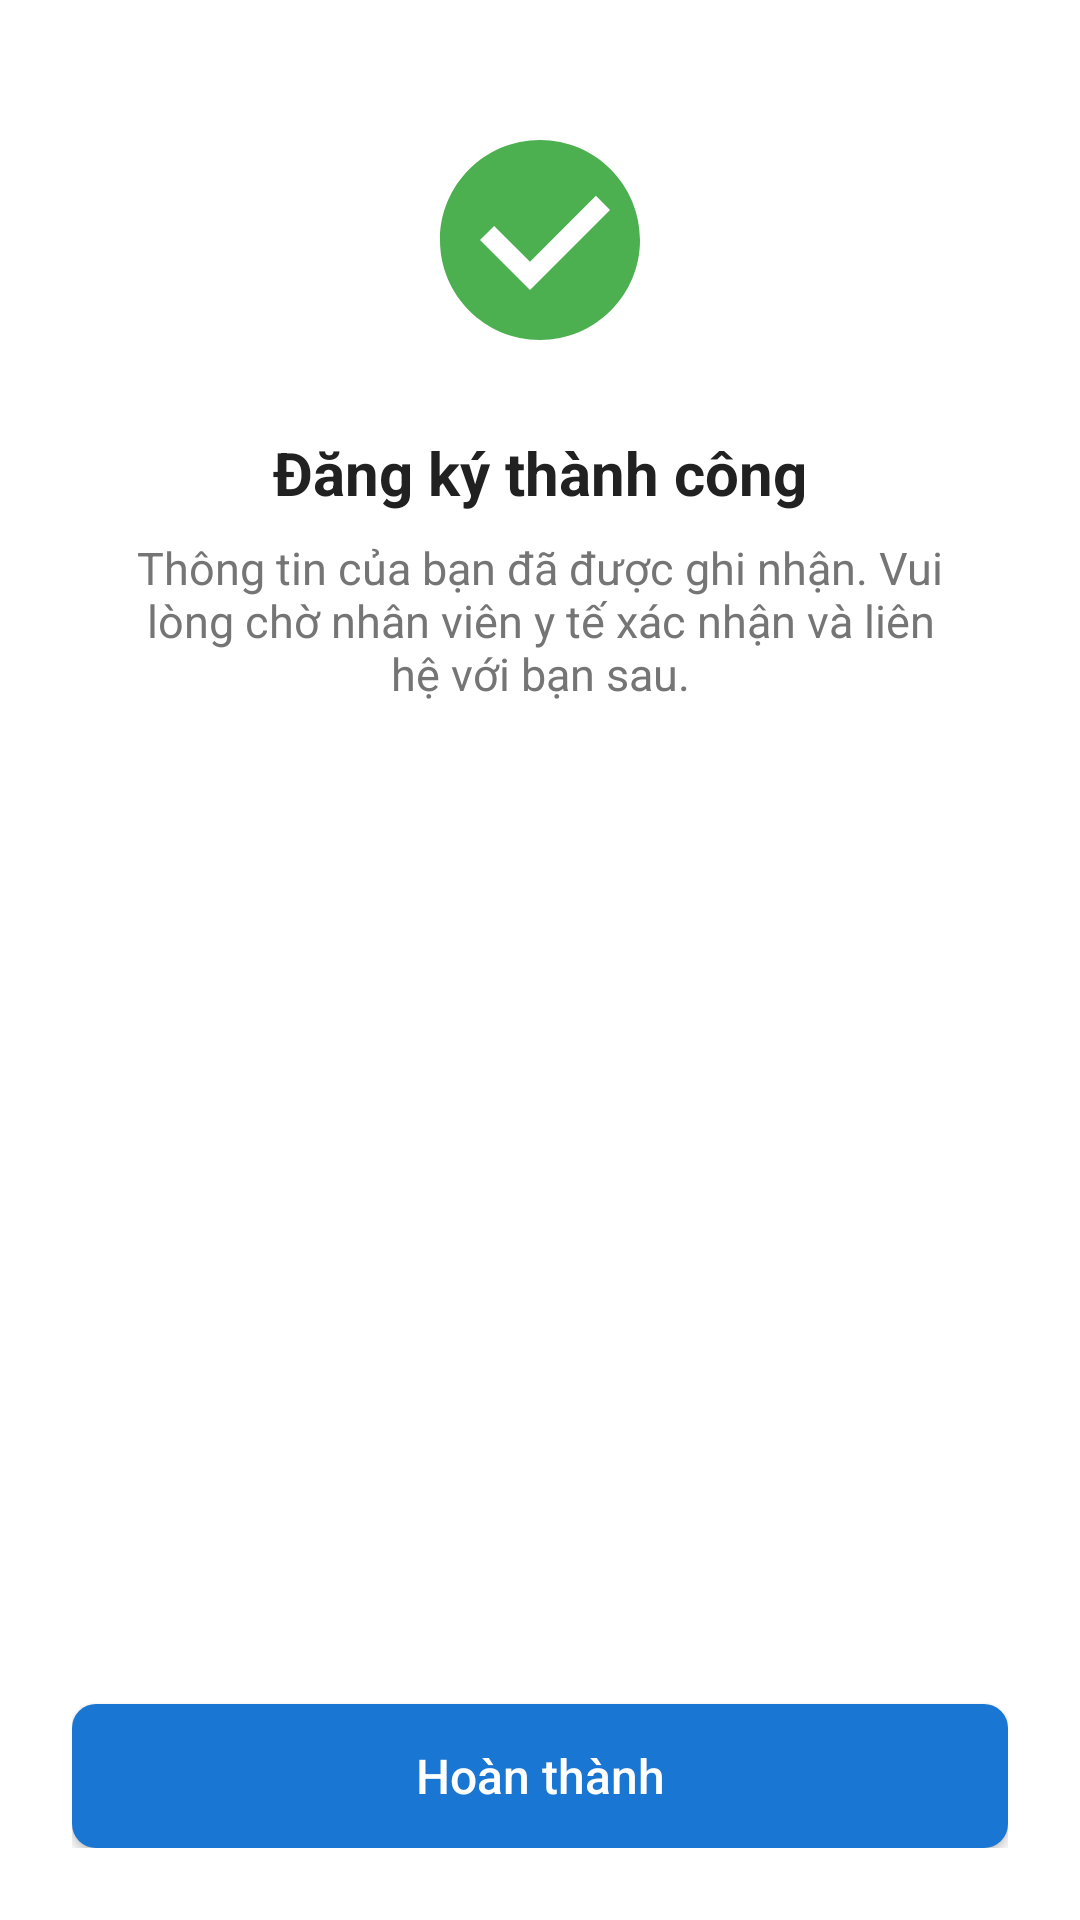

Icon bounding boxes for this 1080*1920 phone screenshot, format [x1=x1, y1=y1, x2=x2, y2=y2]:
check circle: [x1=440, y1=140, x2=640, y2=340]
